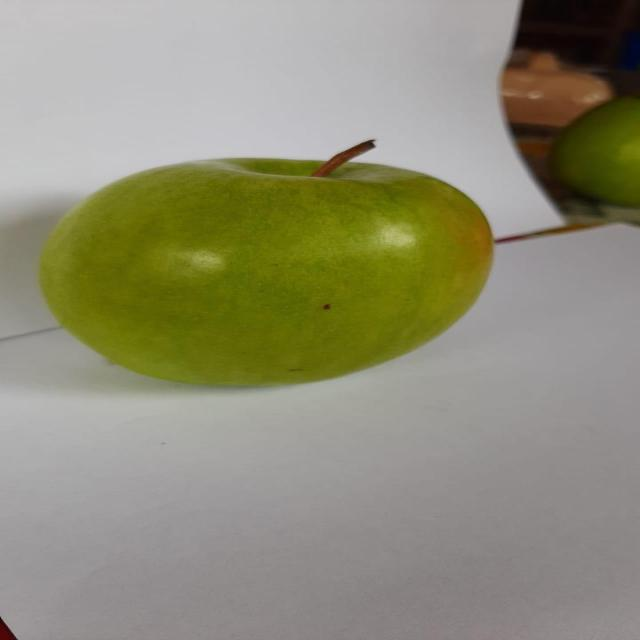Rotten Apple: (17, 131, 515, 403)
